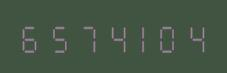five: (44, 20, 70, 53)
four: (98, 20, 124, 53), (179, 20, 205, 53)
one: (125, 20, 151, 53)
seven: (71, 20, 97, 53)
six: (17, 20, 43, 53)
zero: (152, 20, 178, 53)
